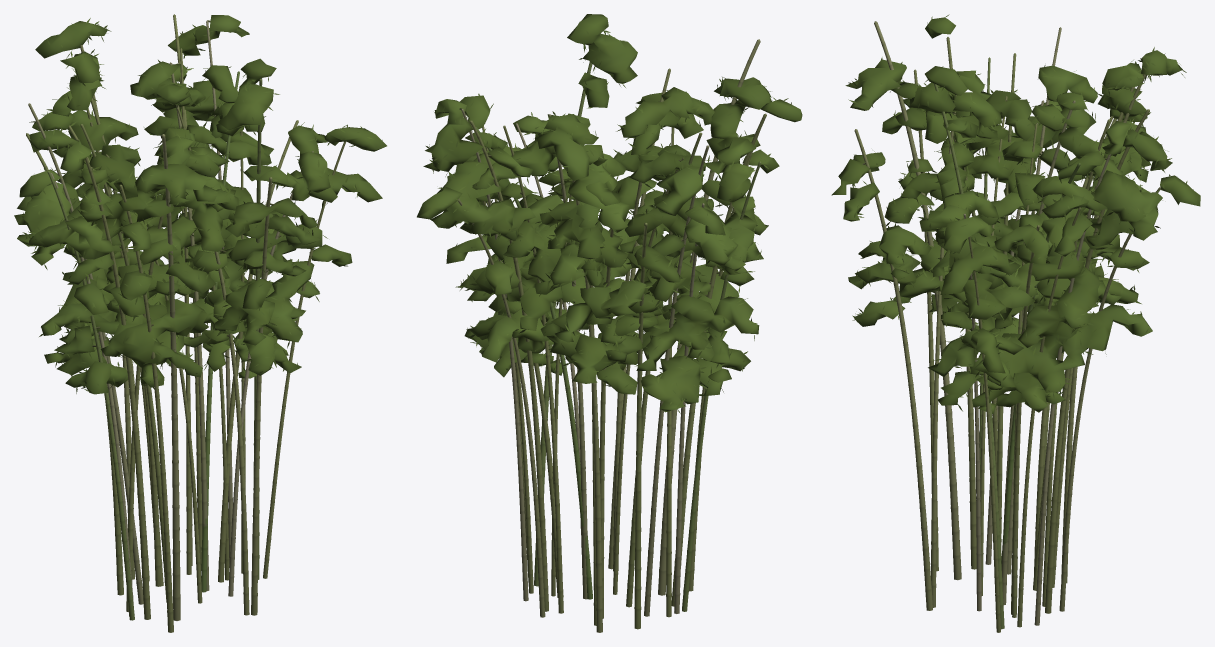
Rendered from bamboo-ultra.glb.
The picture shows the model from 3 angles, left to right: view 1: azimuth 30°, elevation 25°; view 2: azimuth 150°, elevation 25°; view 3: azimuth 270°, elevation 25°; orthographic projection.
Visible parts, largest first — view 1: bamboo1_near, bamboo0_near; view 2: bamboo0_near, bamboo1_near; view 3: bamboo0_near, bamboo1_near.
Part boxes in pixels (x1,y1,x2,y2): bamboo1_near: (14,48,386,632); bamboo0_near: (19,14,327,620); bamboo0_near: (417,87,761,632); bamboo1_near: (446,14,802,629); bamboo0_near: (899,27,1200,627); bamboo1_near: (831,14,1150,632).
Size of the model in its own units: 0.5968 by 0.9266 by 0.5674.
